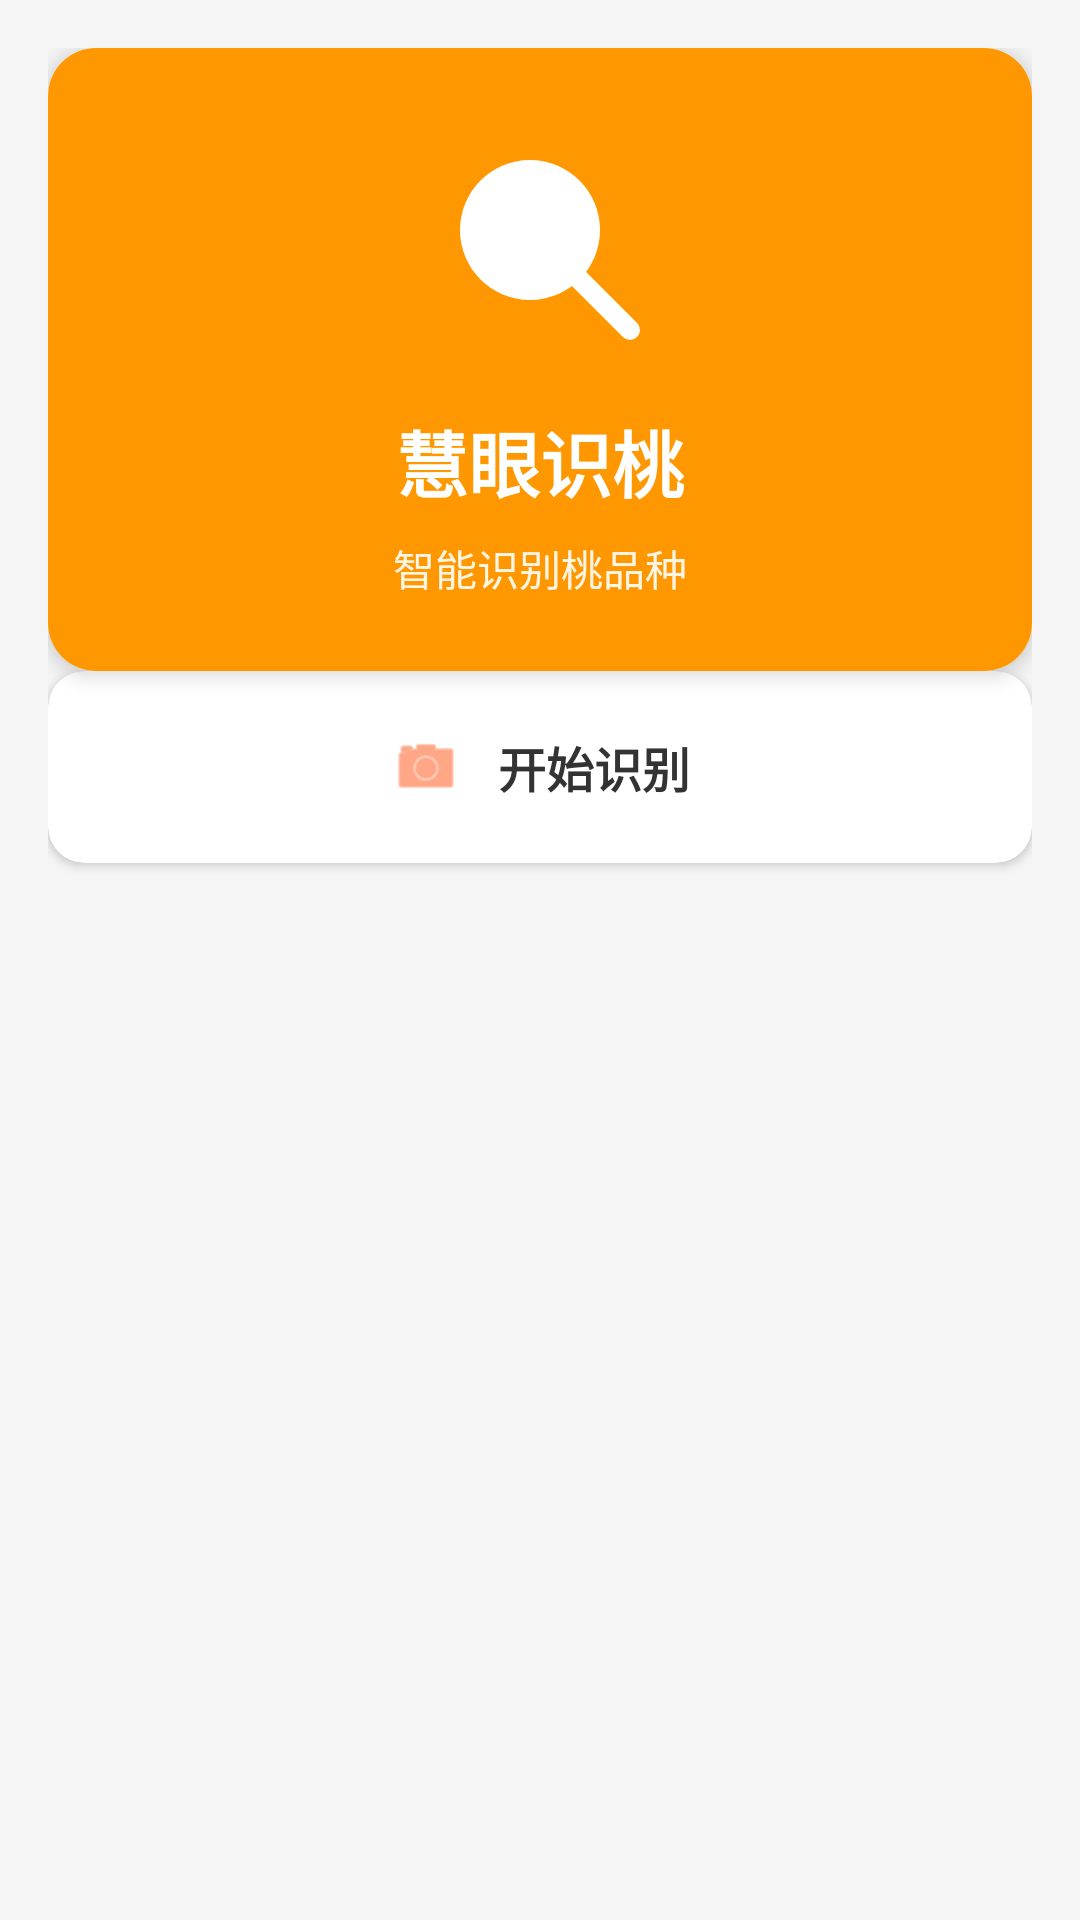

Icon click points for this 1080px x 1920px phone screenshot, format [x,y]:
camera: [426,766]
